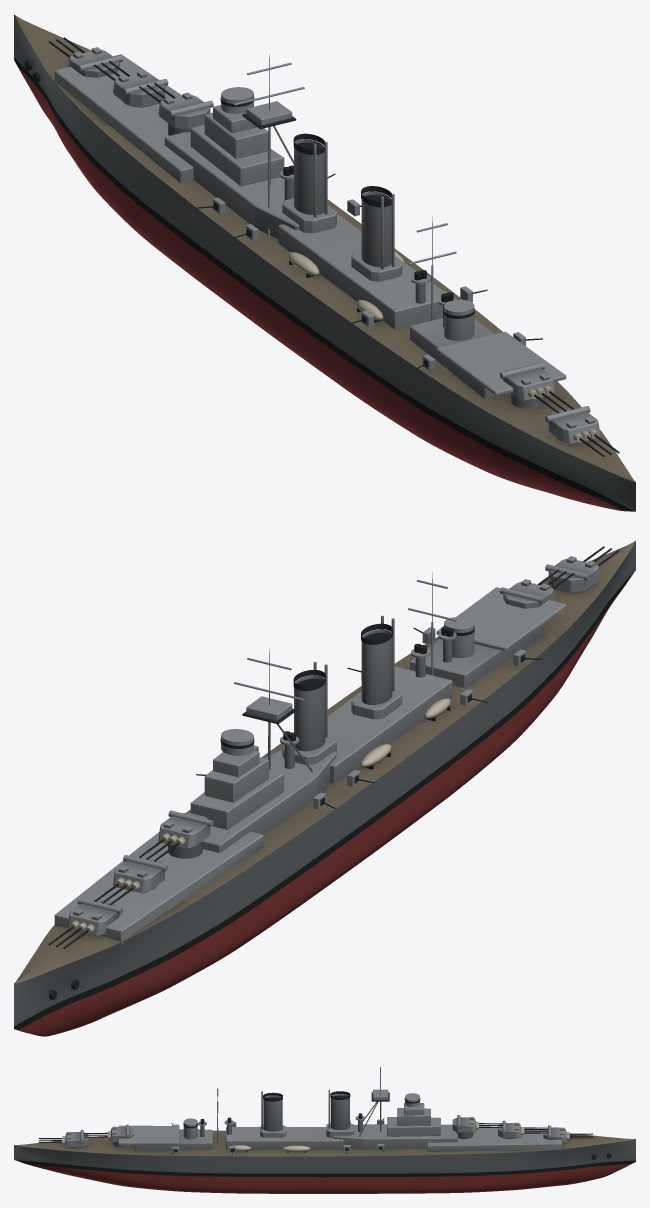
The model's file is uss-helena.glb.
The picture shows the model from 3 angles, top to bottom: view 1: azimuth 30°, elevation 25°; view 2: azimuth 150°, elevation 25°; view 3: azimuth 270°, elevation 25°; orthographic projection. The views are drawn at different scales.
Visible parts, largest first — view 1: uss-helena; view 2: uss-helena; view 3: uss-helena.
Part boxes in pixels (x1,y1,x2,y2): uss-helena: (14,14,635,511); uss-helena: (14,540,635,1036); uss-helena: (14,1067,635,1193).
Size of the model in its own units: 24.44 by 39.35 by 185.
